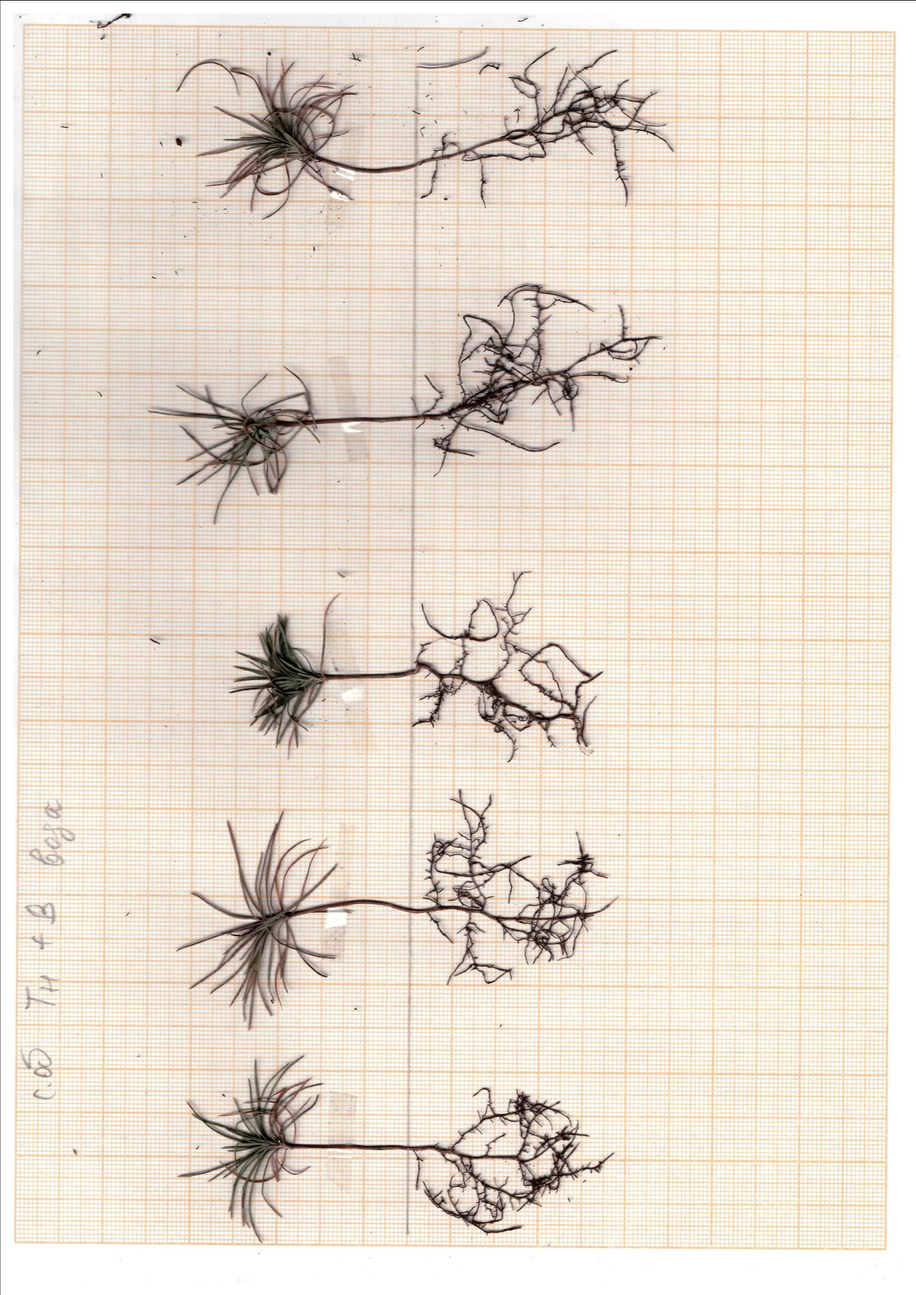cedr: (138, 277, 673, 529), (175, 793, 626, 1032), (178, 1039, 618, 1260), (189, 31, 681, 224), (228, 566, 613, 763)
